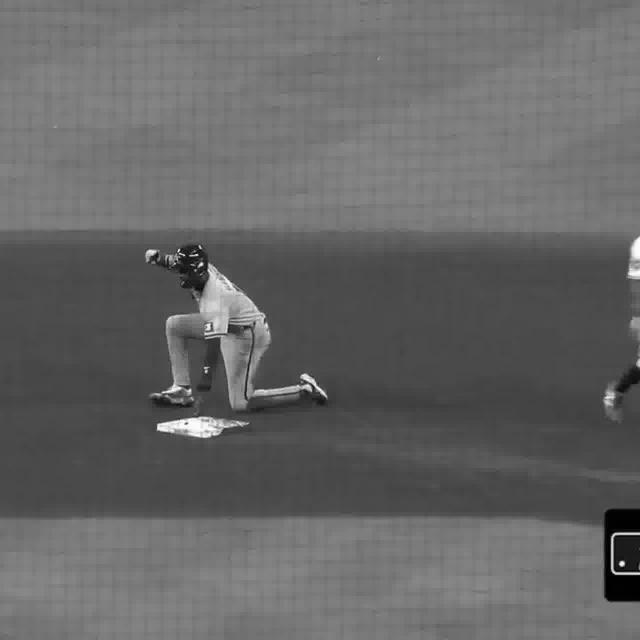base: (150, 418, 258, 435)
shoe: (298, 373, 330, 407), (604, 381, 626, 429), (150, 388, 202, 408)
